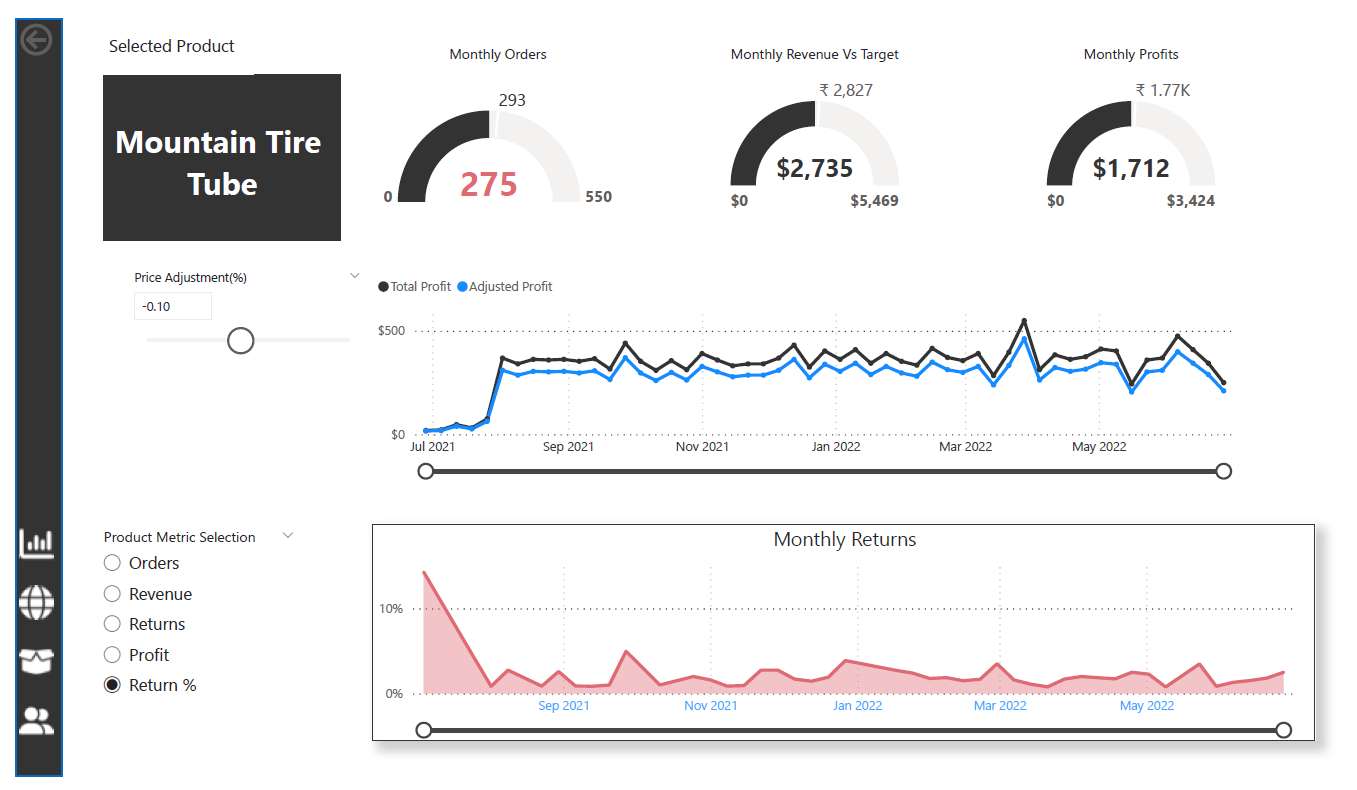

What the dashboard file says about the page in this screenshot:
{"tool":"powerbi","page":{"name":"Product Detail","canvas":[1280,720],"ordinal":2},"visuals":[{"type":"shape","box":[0,0,45,720],"z":0},{"type":"gauge","title":"Monthly Orders","fields":{"Y":["Measure Table.Total Orders"],"TargetValue":["Measure Table.Order Target"]},"box":[340,24.3,237.1,168.6],"z":1000},{"type":"gauge","title":"Monthly Revenue Vs Target","fields":{"Y":["Measure Table.Total Revenue"],"TargetValue":["Measure Table.Revenue Target"]},"box":[640.7,24.3,237.1,168.6],"z":2000},{"type":"gauge","title":"Monthly Profits","fields":{"Y":["Measure Table.Total Profit"],"TargetValue":["Measure Table.Profit Target"]},"box":[941.4,24.3,237.1,168.6],"z":3000},{"type":"lineChart","title":"Monthly Profits","fields":{"Category":["Calendar Lookup.Start of Week.Variation.Date Hierarchy.Year","Calendar Lookup.Start of Week.Variation.Date Hierarchy.Quarter","Calendar Lookup.Start of Week.Variation.Date Hierarchy.Month","Calendar Lookup.Start of Week.Variation.Date Hierarchy.Day"],"Y":["Measure Table.Total Profit","Measure Table.Adjusted Profit"]},"box":[339,235.2,839.7,206.3],"z":4000},{"type":"areaChart","title":"Monthly Returns","fields":{"Y":["Measure Table.Return Rate"],"Category":["Calendar Lookup.Start of Week.Variation.Date Hierarchy.Year","Calendar Lookup.Start of Week.Variation.Date Hierarchy.Quarter","Calendar Lookup.Start of Week.Variation.Date Hierarchy.Month","Calendar Lookup.Start of Week.Variation.Date Hierarchy.Day"]},"box":[338.6,480.4,896,205.4],"z":5000},{"type":"actionButton","box":[0,0,100,40],"z":6000},{"type":"card","fields":{"Values":["Min(Product Lookup.ProductName)"]},"box":[84.3,52.9,224.3,158.6],"z":7000},{"type":"textbox","box":[84.3,10,141.4,42.9],"z":8000},{"type":"actionButton","box":[0,478.6,44.3,40],"z":9000},{"type":"actionButton","box":[0,534.8,44.3,40],"z":10000},{"type":"actionButton","box":[0,591,44.3,40],"z":11000},{"type":"actionButton","box":[0,647.1,44.3,40],"z":12000},{"type":"slicer","fields":{"Values":["Price Adjustment(%).Price Adjustment(%)"]},"box":[100.2,232.3,239.6,105.1],"z":13000},{"type":"slicer","fields":{"Values":["Product Metric Selection.Product Metric Selection"]},"box":[70.9,478,206.6,179.7],"z":14000}]}

Visuals, with their boxes on the page's 1280x720 design canvas (x1, y1, x2, y2). These are canvas units, not pixel positions in the 1357x790 screenshot, which may show the page scaled, cropped or inside an application window:
shape: locate(0, 0, 45, 720)
"Monthly Orders" gauge: locate(340, 24, 577, 193)
"Monthly Revenue Vs Target" gauge: locate(641, 24, 878, 193)
"Monthly Profits" gauge: locate(941, 24, 1178, 193)
"Monthly Profits" lineChart: locate(339, 235, 1179, 442)
"Monthly Returns" areaChart: locate(339, 480, 1235, 686)
actionButton: locate(0, 0, 100, 40)
card - Min(Product Lookup.ProductName): locate(84, 53, 309, 212)
textbox: locate(84, 10, 226, 53)
actionButton: locate(0, 479, 44, 519)
actionButton: locate(0, 535, 44, 575)
actionButton: locate(0, 591, 44, 631)
actionButton: locate(0, 647, 44, 687)
slicer - Price Adjustment(%).Price Adjustment(%): locate(100, 232, 340, 337)
slicer - Product Metric Selection.Product Metric Selection: locate(71, 478, 278, 658)
